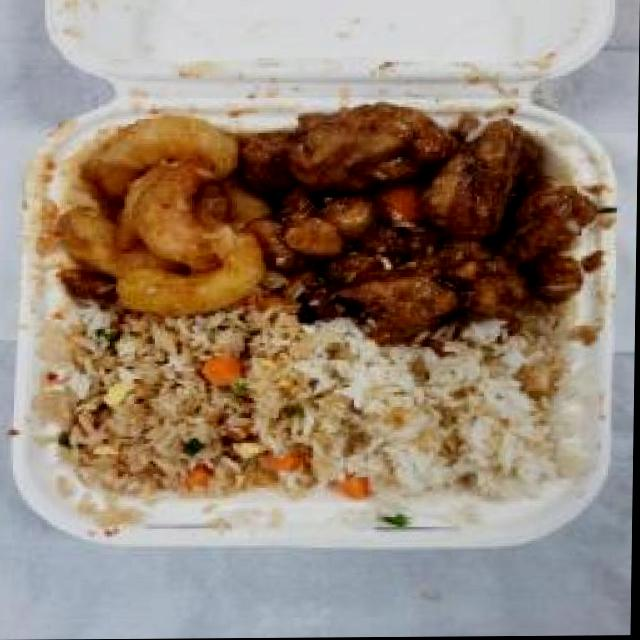Fried Rice: (22, 318, 327, 505)
Honey Walnut Shrimp: (31, 108, 289, 328)
The Original Orange Chicken: (236, 97, 599, 339)
White Steamed Rice: (319, 340, 581, 506)
